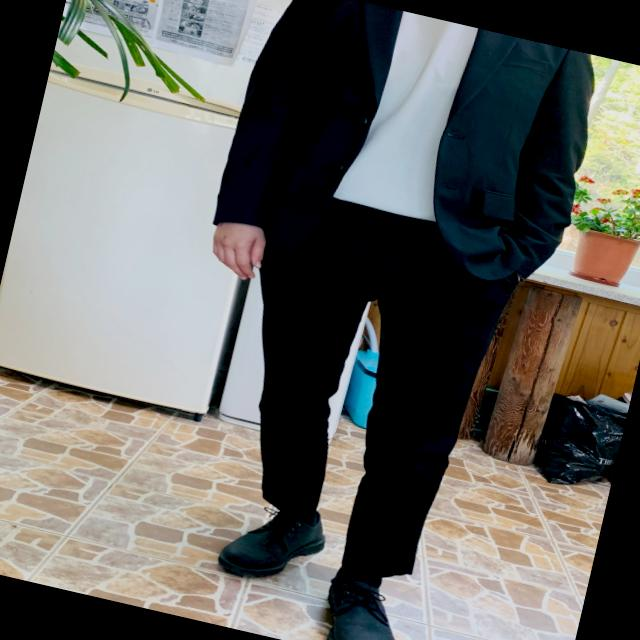blazer: (208, 0, 606, 302)
slacks: (193, 183, 525, 590)
